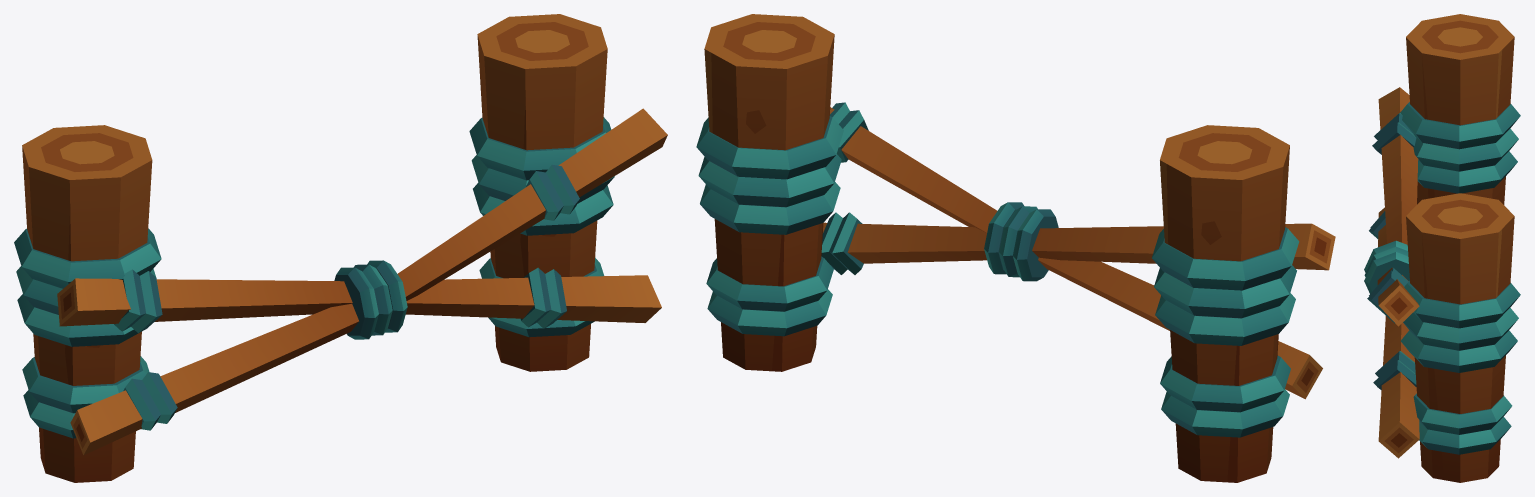
File: fence2.glb
3 renders of one model, left to right at view 1: azimuth 30°, elevation 25°; view 2: azimuth 150°, elevation 25°; view 3: azimuth 270°, elevation 25°, orthographic. The views are drawn at different scales.
Parts seen in each view (by area): view 1: fence2; view 2: fence2; view 3: fence2.
Boxes of the visible parts, x1=… form: fence2: x1=14, y1=14, x2=667, y2=482; fence2: x1=696, y1=14, x2=1335, y2=482; fence2: x1=1364, y1=14, x2=1520, y2=482.
Size of the model in its own units: 1.13 by 0.5544 by 0.3147.
1 material, 1 textured.
